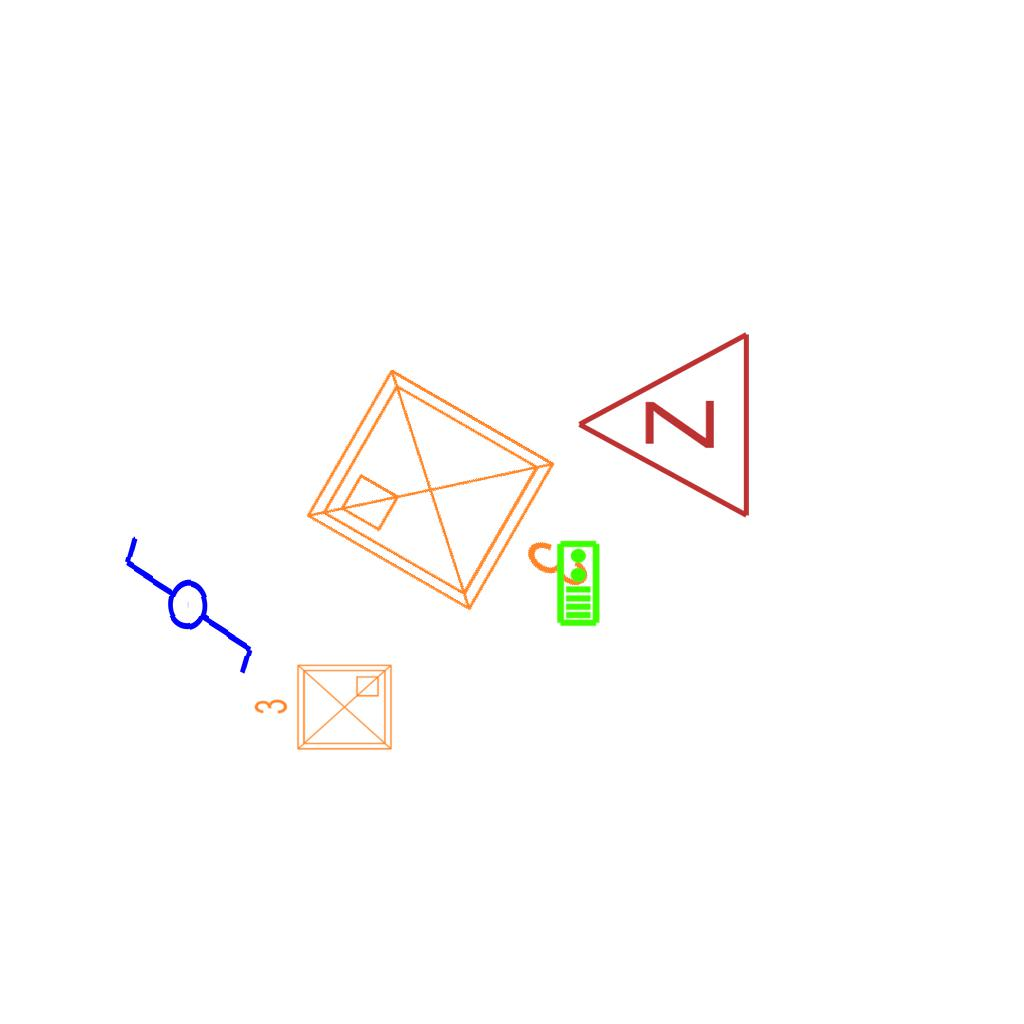Einbaudownlights_LED_Konferenzraeume: (286, 341, 650, 673), (249, 657, 399, 761)
Gegensprechanlage_mit_Video: (554, 539, 601, 627)
Wechselschalter: (114, 514, 267, 680)
Zimmersignalleuchte: (564, 329, 764, 525)
